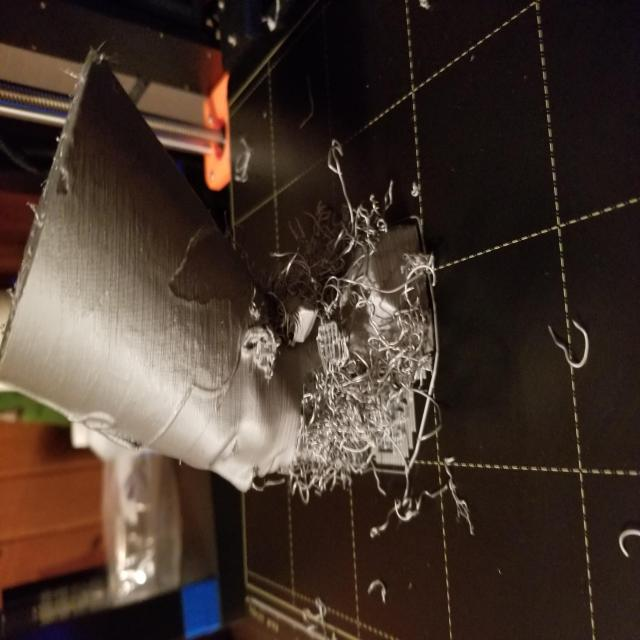Spaghetti: (270, 177, 465, 560)
